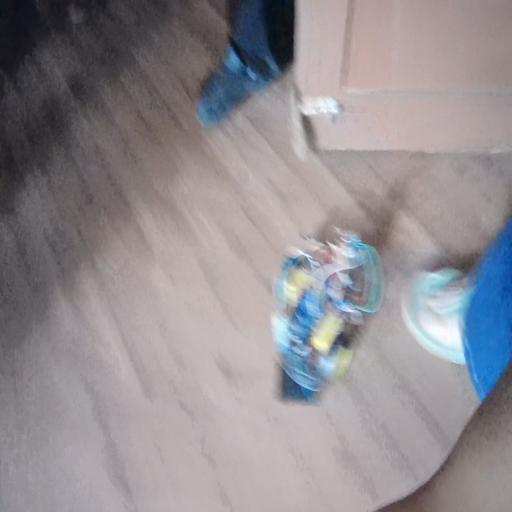car: (278, 249, 364, 374)
